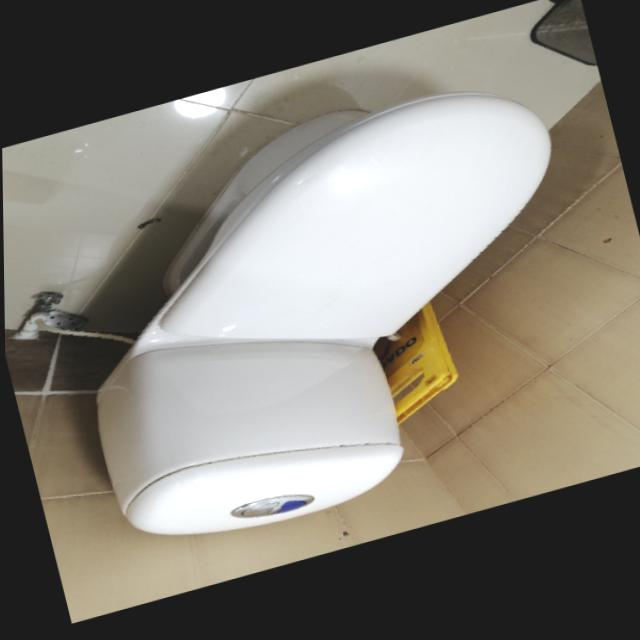toilet: (33, 58, 622, 568)
